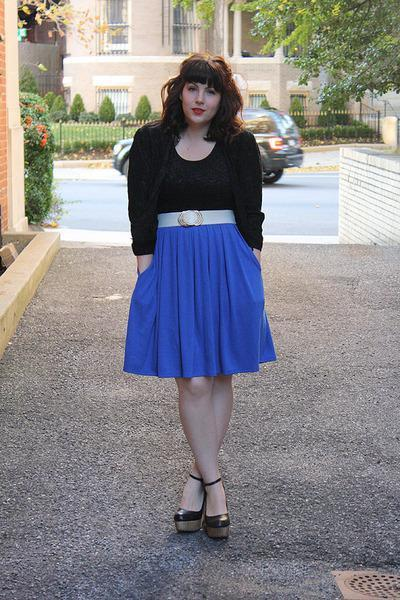shirt: (123, 124, 265, 274)
shoe: (166, 502, 231, 544)
skirt: (123, 210, 275, 377)
